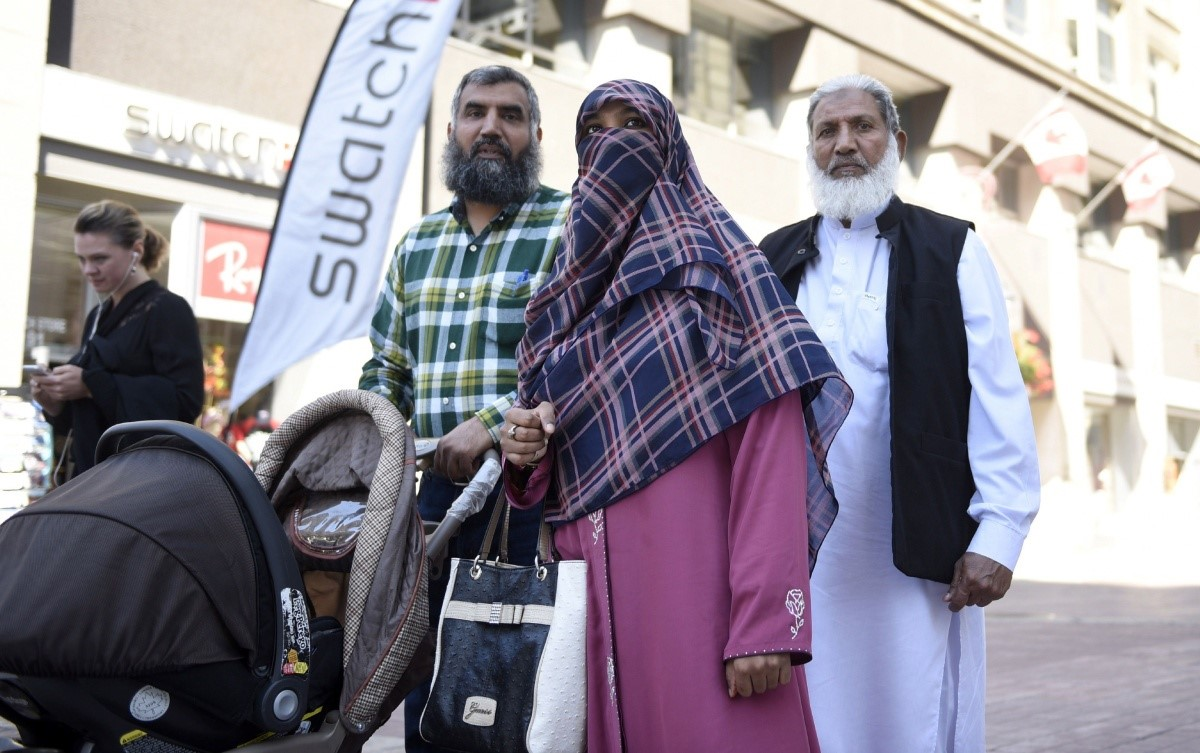face_no_mask: (445, 66, 544, 195), (807, 84, 905, 213), (70, 200, 158, 297)
